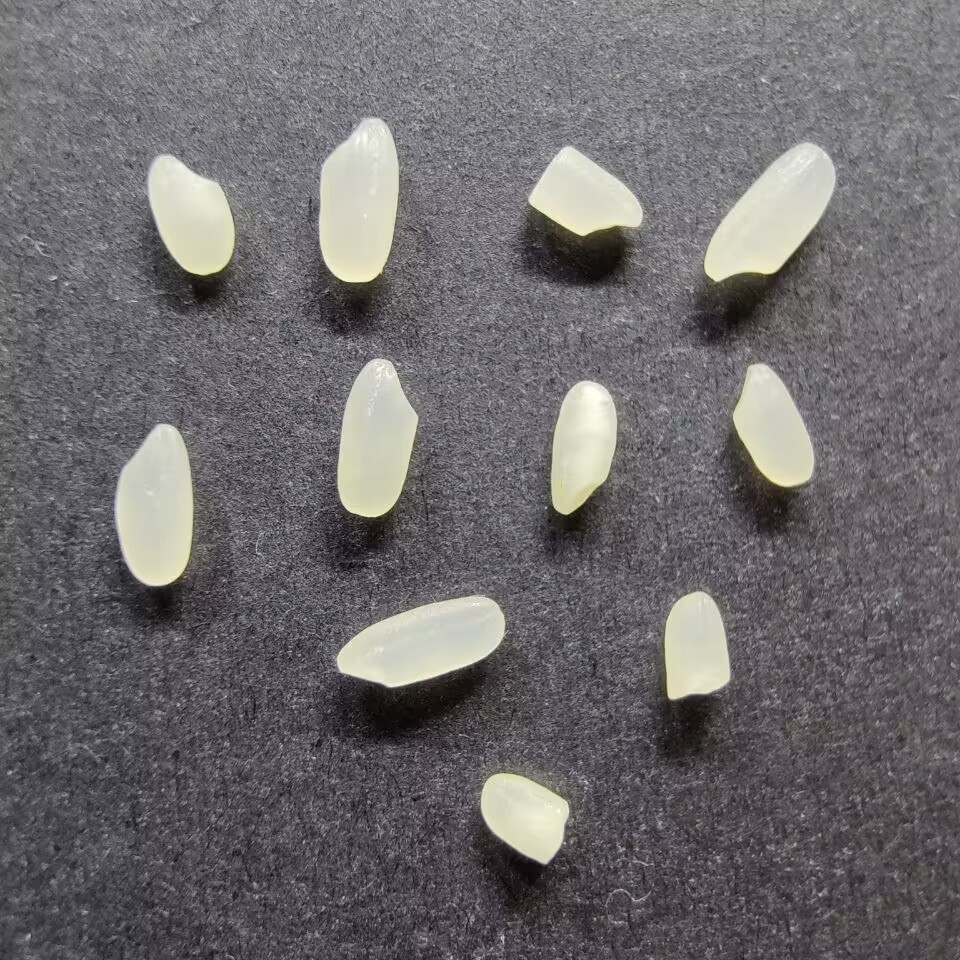broken: (525, 143, 644, 239), (479, 770, 571, 865), (660, 590, 734, 704)
rice: (702, 140, 838, 284), (334, 593, 504, 690), (315, 115, 398, 285), (334, 356, 421, 518), (112, 421, 194, 589), (147, 151, 238, 278), (729, 361, 815, 488), (547, 377, 620, 518)
